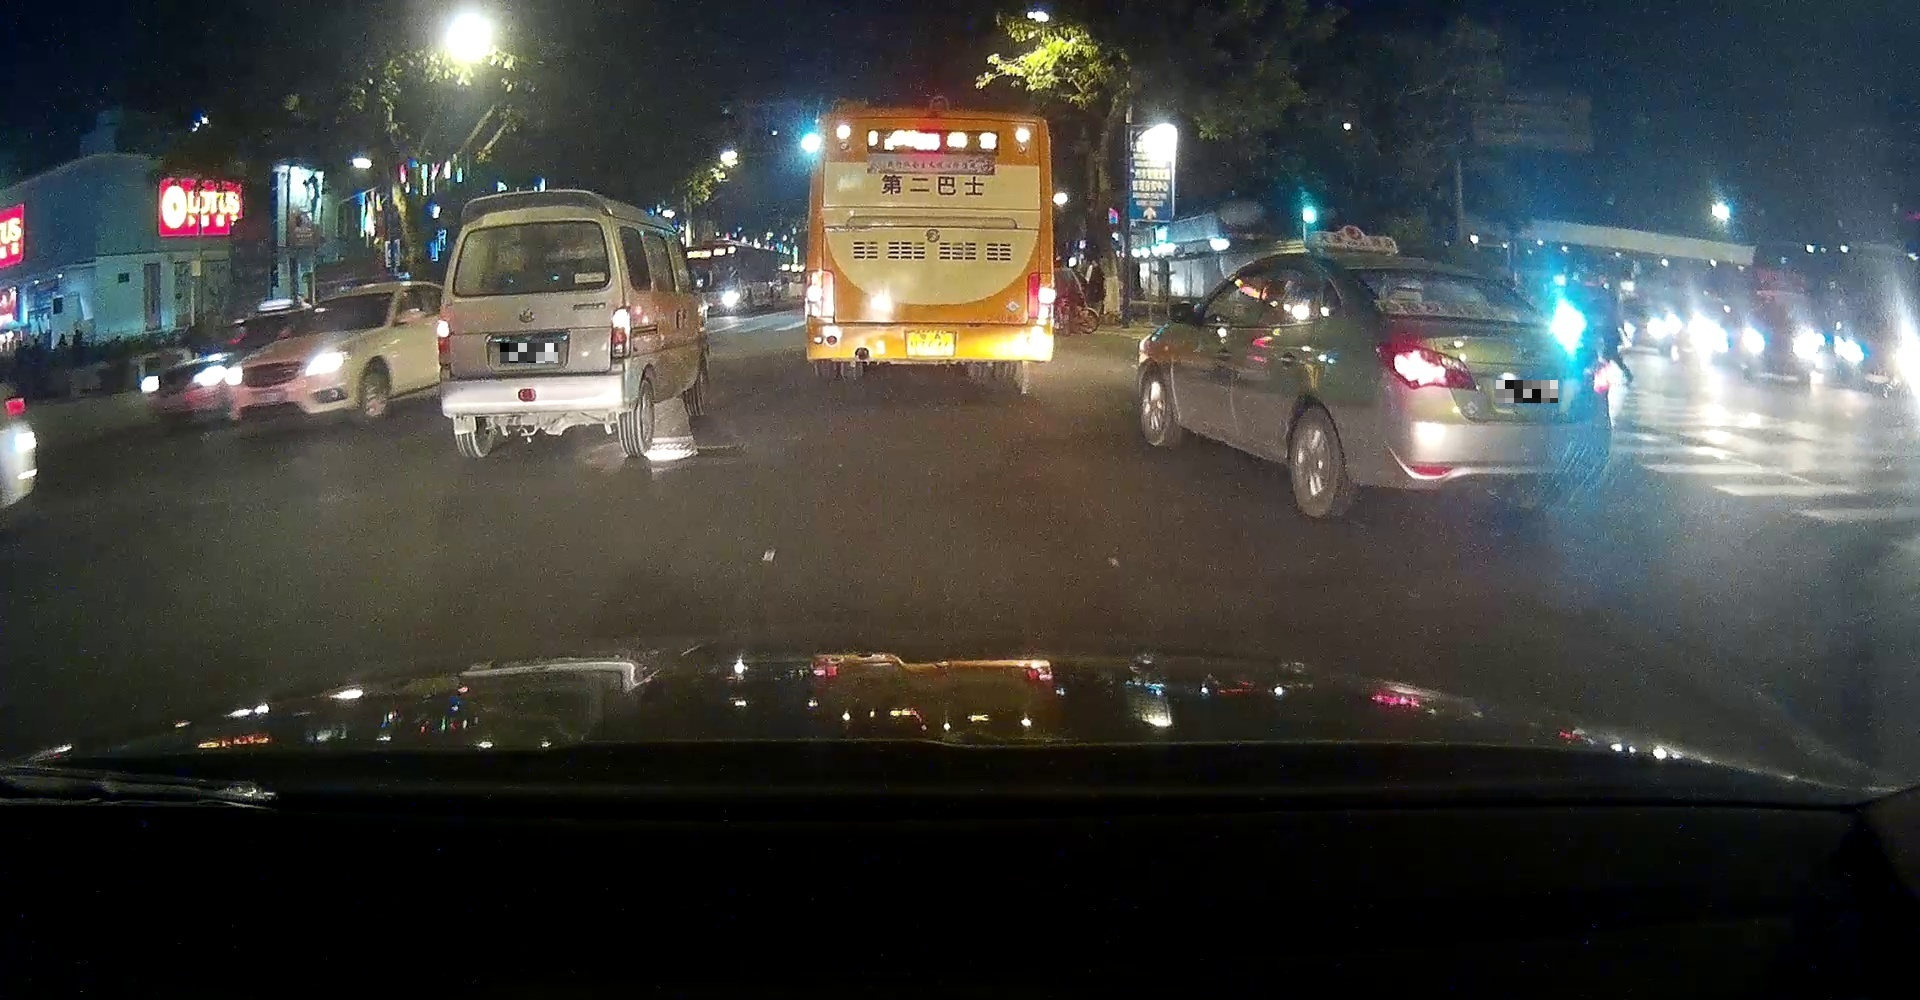L_light: (1371, 341, 1478, 390), (804, 270, 836, 319), (438, 320, 450, 365)
R_light: (1578, 348, 1608, 393), (1029, 272, 1053, 319), (611, 308, 630, 358)
T_light: (1418, 272, 1459, 283), (517, 221, 551, 232), (916, 118, 945, 129)
night-no: (1343, 254, 1611, 514), (804, 107, 1053, 381), (438, 189, 631, 456)
plate_1: (500, 343, 557, 363)
plate_2: (1496, 379, 1558, 404)
